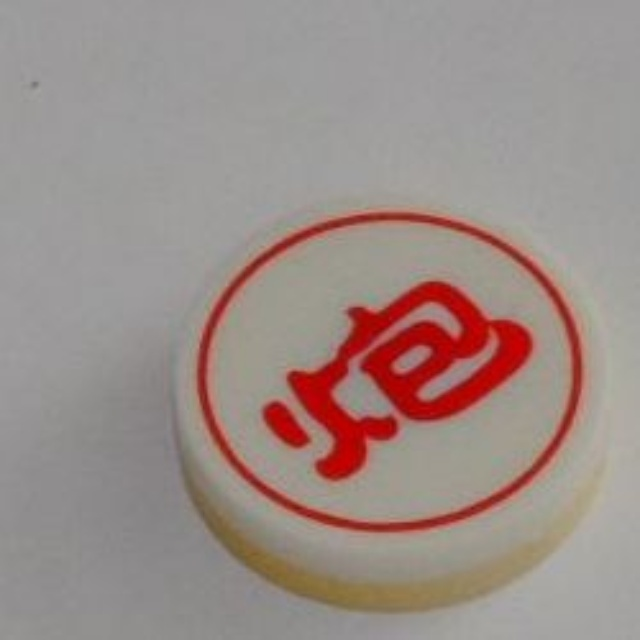red_phao: (164, 181, 622, 614)
